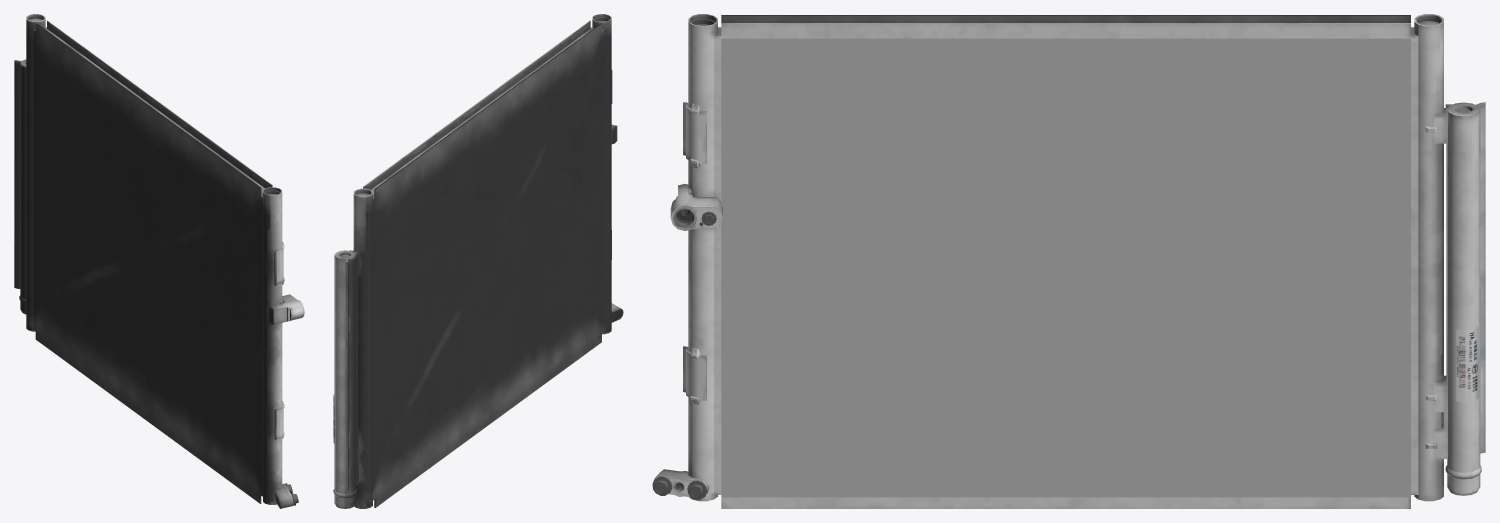
File: E5_冷凝器.FBX
3 renders of one model, left to right at view 1: azimuth 30°, elevation 25°; view 2: azimuth 150°, elevation 25°; view 3: azimuth 270°, elevation 25°, orthographic. The views are drawn at different scales.
Visible parts, largest first — view 1: LNQ; view 2: LNQ; view 3: LNQ_TT, LNQ, LNQ_TT 1.
Boxes of the visible parts, x1=… form: LNQ: x1=14, y1=14, x2=304, y2=508; LNQ: x1=333, y1=14, x2=623, y2=508; LNQ_TT: x1=721, y1=38, x2=1410, y2=497; LNQ: x1=653, y1=14, x2=1485, y2=508; LNQ_TT 1: x1=1455, y1=326, x2=1478, y2=402.
Size of the model in its own units: 4.92 by 45.6 by 71.
